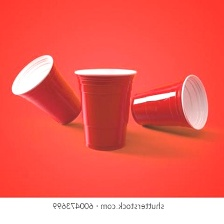glass: (70, 59, 137, 156), (5, 52, 81, 137), (129, 69, 214, 136)
